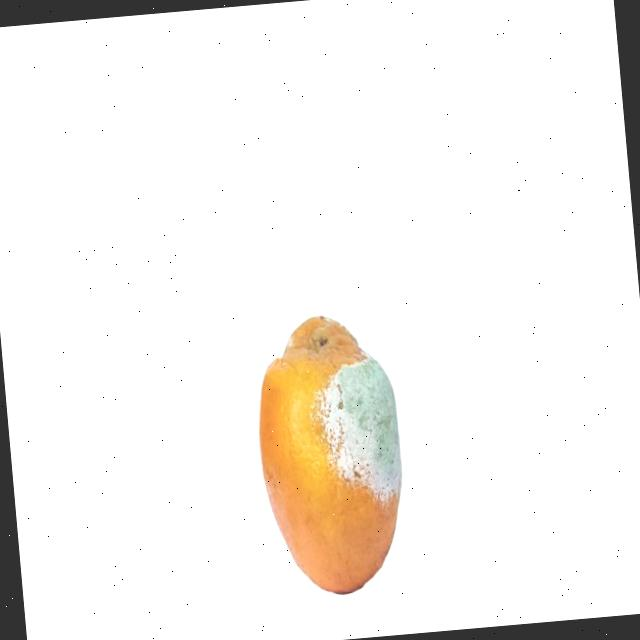rotten orange: (248, 307, 414, 600)
